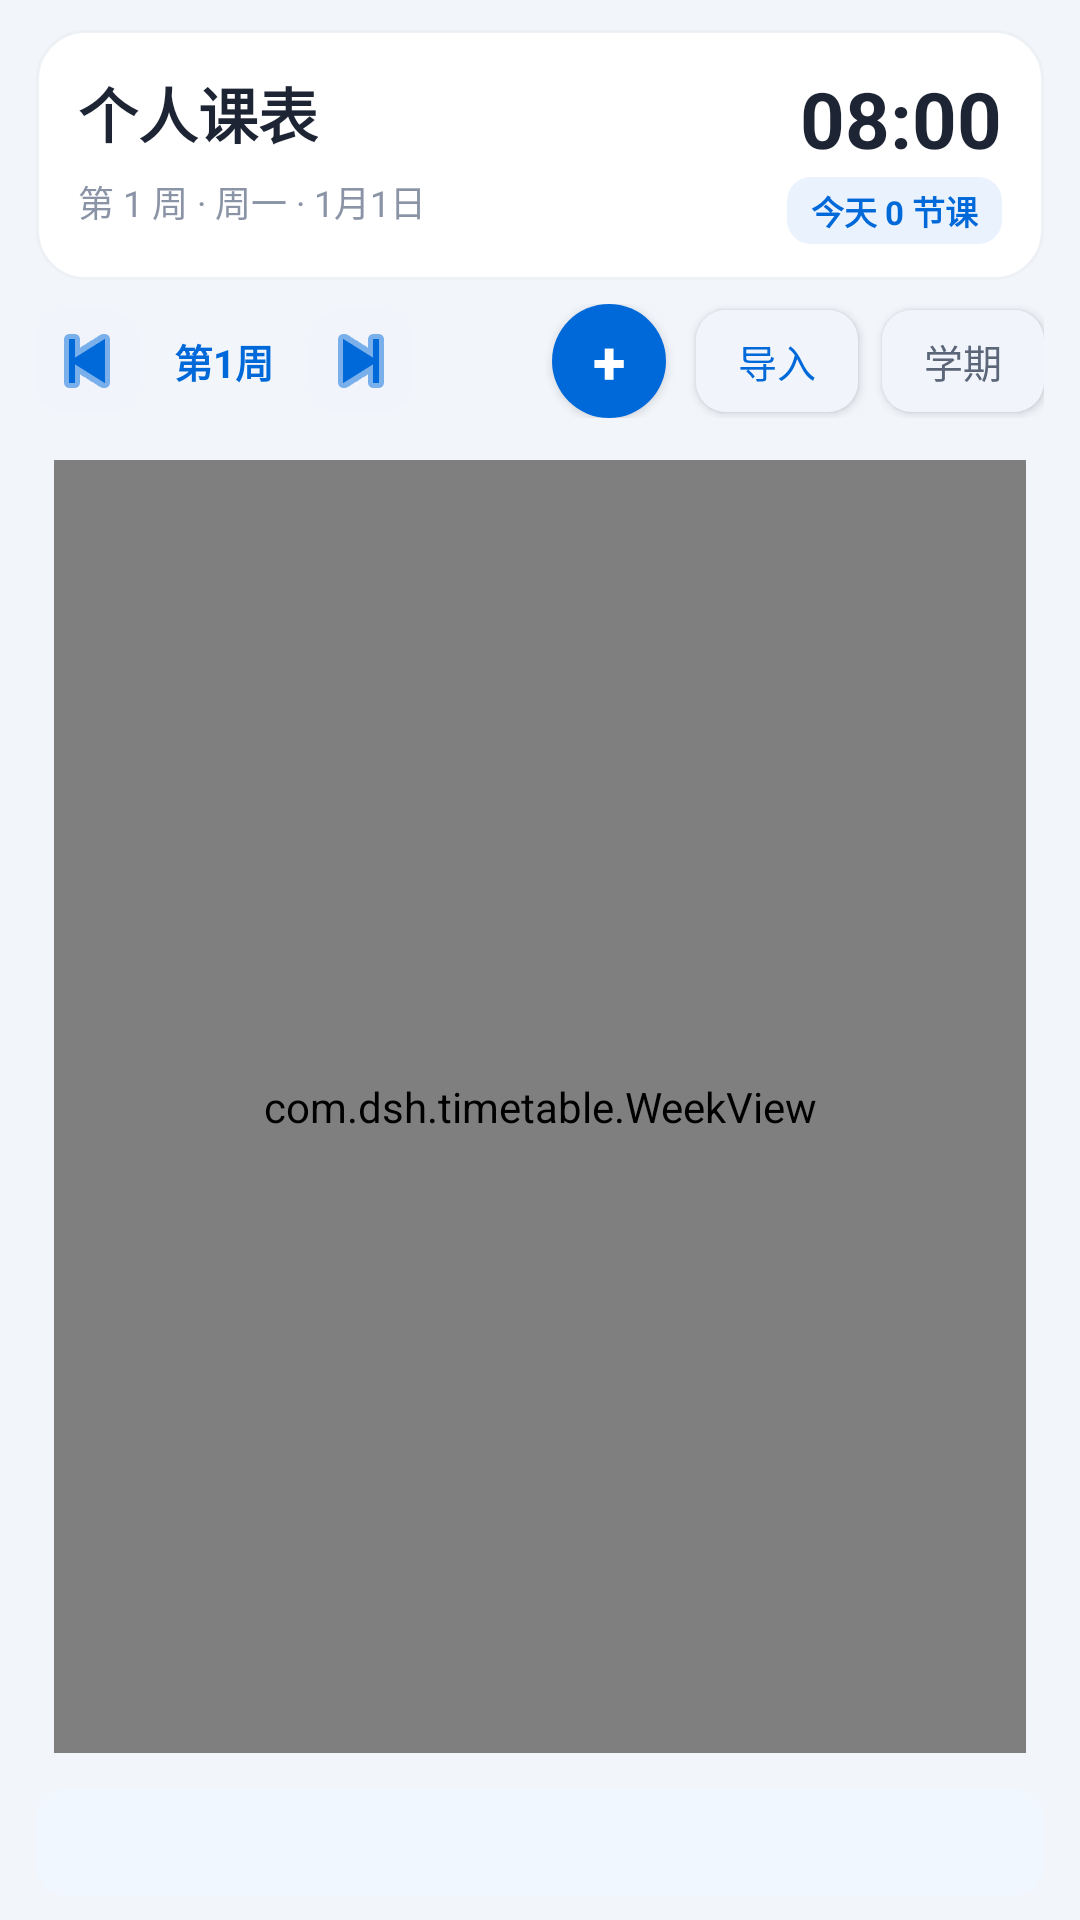

Where icons sit on this 1080x1920 app screen, as {"left": x1, "top": y1, "right": x2, "bottom": y2}:
上一周: {"left": 64, "top": 334, "right": 110, "bottom": 388}
下一周: {"left": 338, "top": 334, "right": 384, "bottom": 388}
